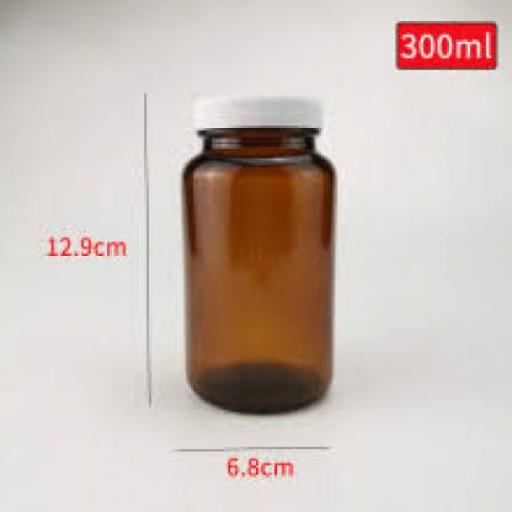glass: (181, 126, 333, 414)
plastic: (191, 96, 319, 126)
